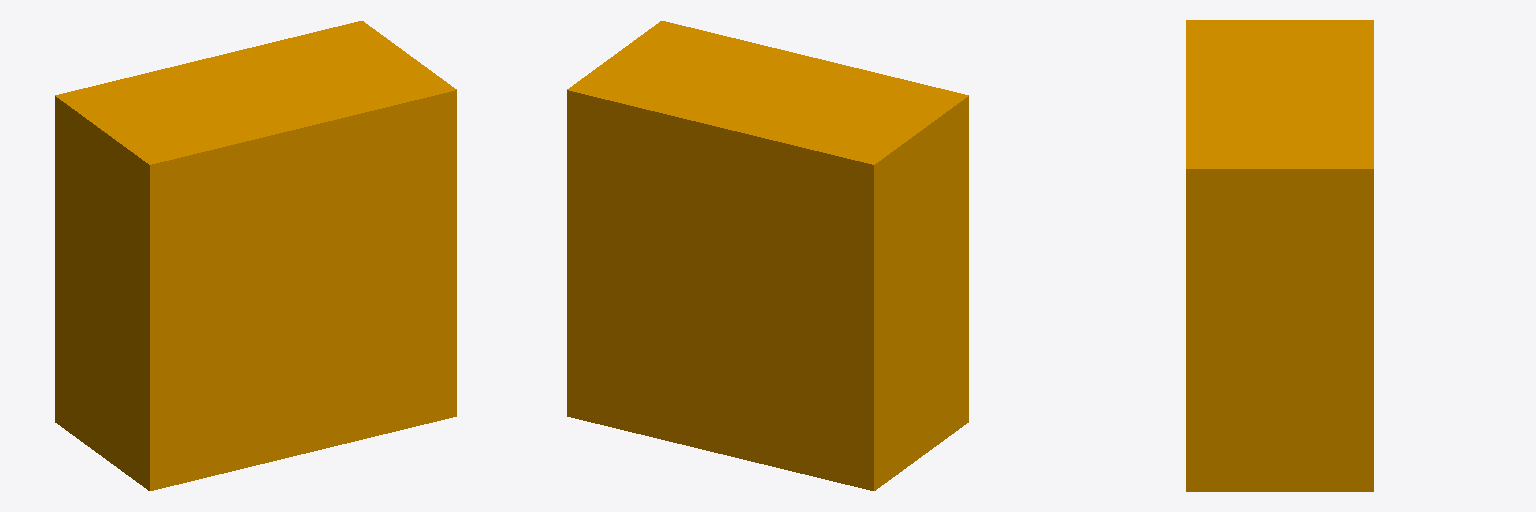
The robot description file, URDF, robot "zwieback":
<?xml version="1.0" ?> 
<robot name="zwieback">
  <link name="base_link">
  <inertial>
    <mass value="1.0" />
    <origin xyz="0 0 0.0" />
    <inertia  ixx="1.0" ixy="0.0"  ixz="0.0"  iyy="1.0"  iyz="0.0"  izz="1.0" />
  </inertial>
  <visual>
   <origin xyz="0 0 0.0" rpy="0 0 0" />
   <geometry>
     <mesh filename="package://cob_gazebo_objects/Media/models/zwieback.dae"/>
   </geometry>
  </visual>
  <collision>
   <origin xyz="0 0 0.072" rpy="0 0 0" />
   <geometry>
     <box size="0.142 0.076 0.144" />
     <!--mesh filename="package://cob_gazebo_objects/Media/models/zwieback.dae"/-->>
   </geometry>
  </collision>     
  </link>
</robot>

--- Render facts (derived) ---
3 views of the same robot in one strip: view 1: azimuth 30°, elevation 25°; view 2: azimuth 150°, elevation 25°; view 3: azimuth 270°, elevation 25° (orthographic).
Model zwieback with 1 links and 0 joints (none), rooted at base_link, posed every joint at zero.
Links seen in each view (by area): view 1: base_link; view 2: base_link; view 3: base_link.
Boxes of the visible links, <box> form: base_link: <box>55,21,456,490</box>; base_link: <box>567,21,968,490</box>; base_link: <box>1186,20,1373,491</box>.
Bounding box of the posed robot: 0.142 × 0.076 × 0.144 m (x, y, z).
1 mesh visuals loaded from 1 distinct referenced files (1 Collada DAE).